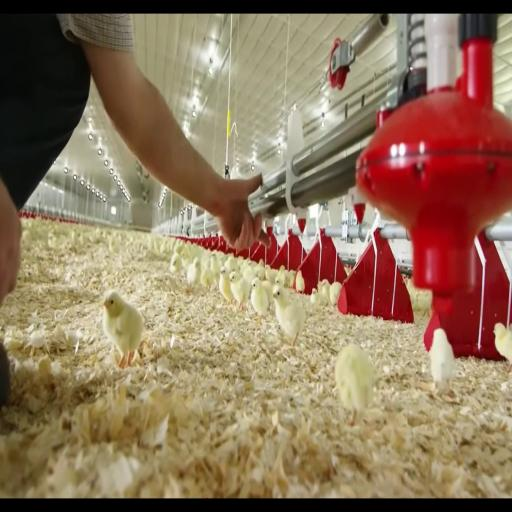chick: (103, 291, 143, 368), (335, 345, 373, 425), (273, 285, 305, 345), (429, 329, 454, 388), (250, 277, 269, 323), (494, 323, 511, 371), (230, 272, 250, 310), (219, 266, 233, 302), (187, 258, 201, 288), (200, 264, 215, 289), (260, 280, 273, 305), (318, 280, 330, 303), (330, 282, 342, 305), (310, 289, 326, 306), (275, 266, 287, 287), (210, 254, 219, 280), (242, 265, 255, 283), (265, 266, 277, 284), (171, 253, 181, 274), (295, 271, 305, 292), (274, 273, 286, 288), (286, 271, 296, 288), (256, 265, 265, 281)
